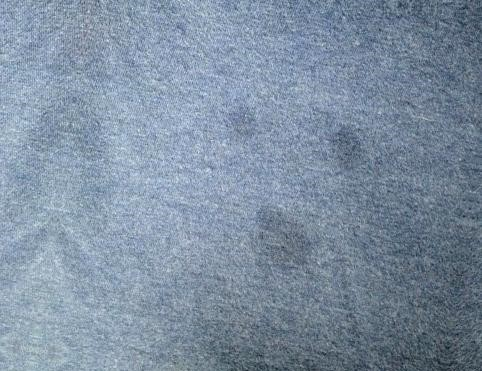stain: (249, 201, 314, 276), (327, 118, 374, 176), (224, 101, 261, 139)
